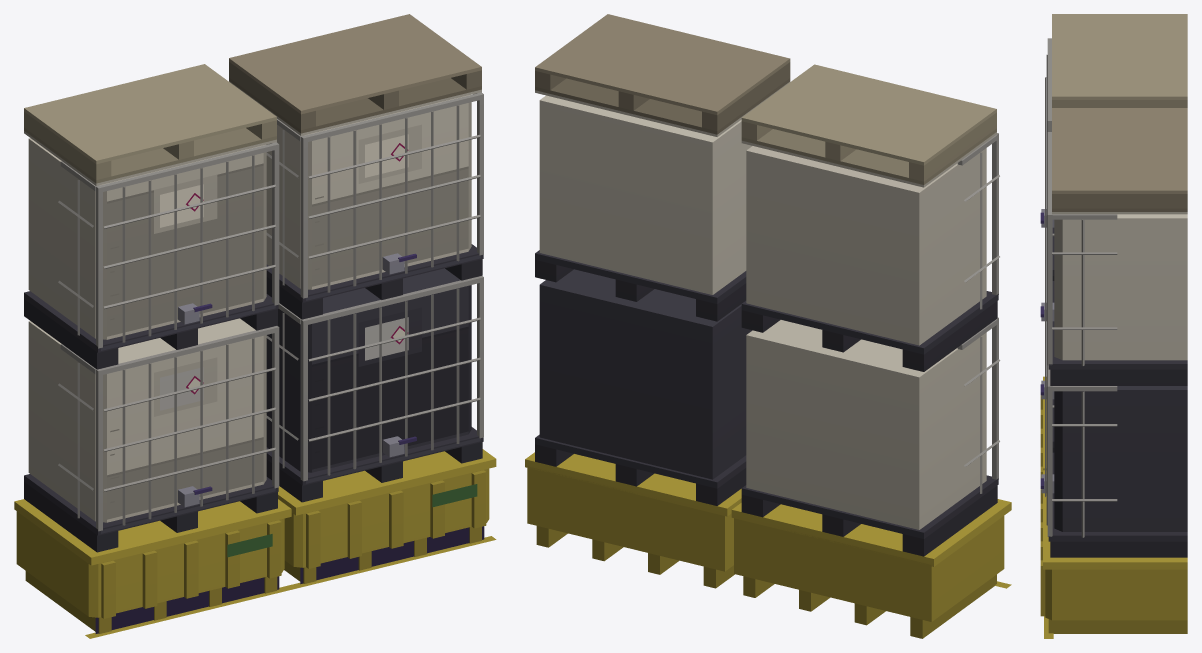
File: drum_ibc_stack_c.glb
The picture shows the model from 3 angles, left to right: view 1: azimuth 30°, elevation 25°; view 2: azimuth 150°, elevation 25°; view 3: azimuth 270°, elevation 25°; orthographic projection. The views are drawn at different scales.
Parts seen in each view (by area): view 1: drum_ibc_stack; view 2: drum_ibc_stack; view 3: drum_ibc_stack.
Part boxes in pixels (x1=…): drum_ibc_stack: x1=14, y1=14, x2=496, y2=638; drum_ibc_stack: x1=525, y1=14, x2=1011, y2=638; drum_ibc_stack: x1=1040, y1=14, x2=1187, y2=638.
Size of the model in its own units: 2.7 by 3 by 0.901.
